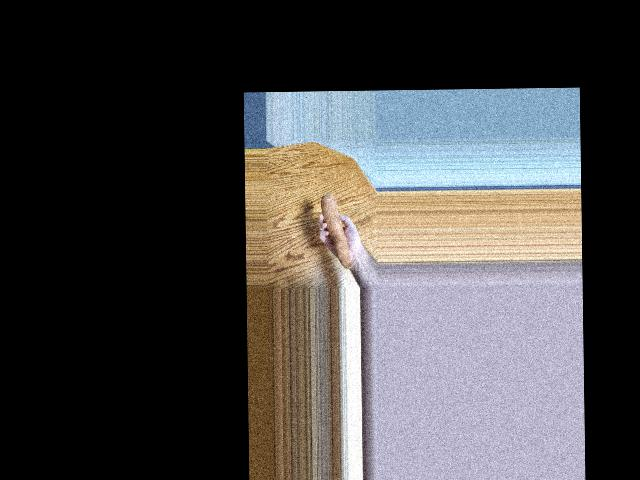sweet_potato: (319, 196, 349, 265)
